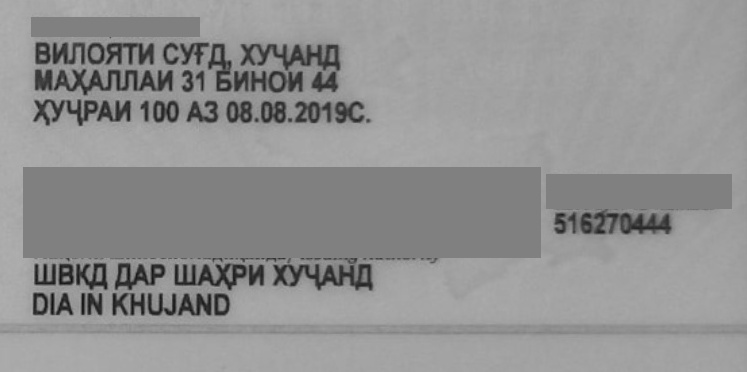0: (165, 94, 183, 130), (150, 94, 164, 130), (255, 94, 269, 130), (306, 94, 320, 130), (225, 94, 238, 130), (618, 208, 634, 236)
1: (319, 94, 333, 130), (195, 60, 207, 100), (140, 94, 152, 130), (566, 208, 580, 236)
2: (593, 208, 611, 236), (294, 94, 306, 130)
3: (181, 60, 197, 100)
4: (321, 60, 343, 100), (310, 60, 324, 100), (629, 208, 649, 236), (643, 208, 663, 236), (655, 208, 675, 236)
5: (551, 208, 571, 236)
6: (579, 208, 595, 236)
7: (606, 208, 624, 236)
8: (272, 94, 286, 130), (240, 94, 252, 130)
9: (333, 94, 349, 130)
А: (132, 255, 152, 295), (198, 255, 218, 295), (54, 62, 74, 98), (87, 62, 107, 98), (319, 255, 337, 295), (289, 39, 307, 77), (138, 62, 156, 98), (99, 95, 115, 129), (189, 95, 205, 129)
Б: (208, 62, 234, 98)
В: (56, 255, 76, 295), (37, 37, 51, 75)
Д: (354, 255, 382, 295), (320, 40, 348, 78), (90, 255, 116, 295), (117, 255, 133, 295), (209, 38, 225, 76)
З: (204, 95, 226, 129)
И: (154, 62, 182, 98), (112, 95, 140, 129), (285, 62, 311, 98), (138, 38, 162, 76), (247, 255, 267, 295), (48, 37, 68, 75), (231, 62, 251, 98)
К: (73, 255, 91, 295)
Л: (68, 37, 88, 75), (105, 62, 123, 98), (120, 62, 138, 98)
М: (36, 62, 52, 98)
Н: (335, 255, 355, 295), (249, 62, 269, 98), (302, 39, 320, 77)
О: (85, 37, 105, 75), (267, 62, 287, 98)
Р: (149, 255, 173, 295), (227, 255, 245, 295), (80, 95, 100, 129)
С: (158, 38, 180, 76), (349, 95, 365, 129)
Т: (126, 37, 142, 75)
У: (286, 255, 304, 295), (179, 38, 195, 76), (256, 39, 272, 77), (51, 95, 67, 129)
Х: (233, 39, 259, 77), (275, 255, 289, 295)
Ч: (269, 39, 289, 77), (303, 255, 321, 295), (65, 95, 81, 129)
Ш: (167, 255, 197, 295), (36, 255, 54, 295)
Я: (103, 37, 123, 75)
Ғ: (195, 38, 211, 76)
Ҳ: (69, 62, 87, 98), (215, 255, 231, 295), (34, 95, 52, 129)
